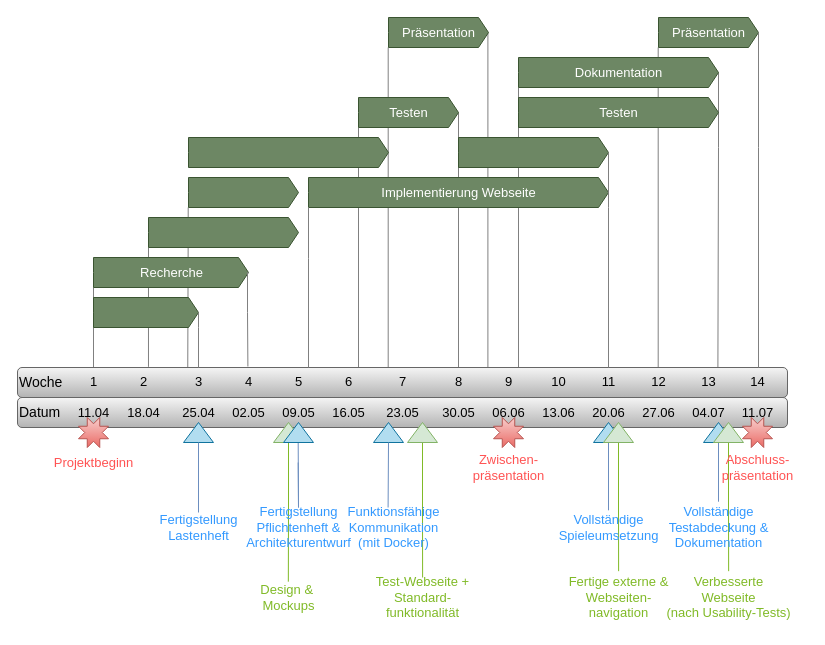
Image size: 825x645. Some labels were removed from this diagram. The shapes that lost their labels are listed below. From the top down, each one's centre as x and y in pixels, then its label:
point 288,152: Implementierung Kommunikation
point 533,152: Implementierung Spiele
point 243,192: Webseitendesign
point 223,232: Entwurf
point 145,312: Organisation
